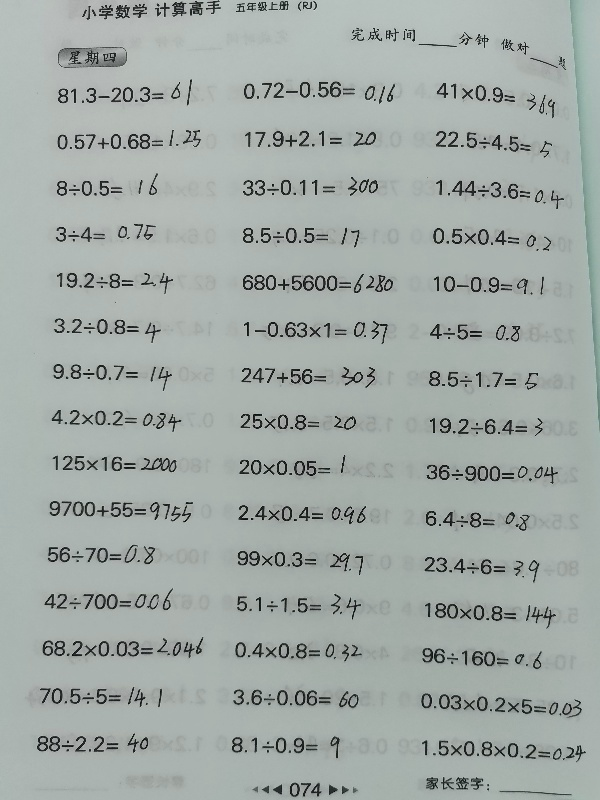equation: (415, 733, 590, 765), (433, 81, 562, 123), (38, 634, 207, 663), (432, 178, 569, 213), (54, 76, 196, 109), (416, 692, 585, 719), (239, 313, 391, 343), (239, 77, 398, 105), (45, 497, 196, 526), (233, 586, 364, 619), (239, 270, 397, 297), (421, 597, 559, 627), (53, 126, 204, 153), (41, 585, 177, 614), (49, 361, 175, 392), (428, 225, 557, 255), (237, 364, 385, 390), (240, 173, 382, 199), (36, 681, 165, 709), (54, 268, 178, 297), (48, 405, 184, 431), (234, 501, 369, 527), (421, 554, 542, 583), (422, 460, 561, 485), (52, 173, 173, 201), (230, 638, 365, 663), (228, 733, 344, 762), (229, 685, 362, 710), (242, 127, 380, 151), (418, 645, 545, 671), (33, 730, 153, 757), (432, 130, 555, 156), (50, 314, 164, 342), (238, 223, 363, 248), (235, 453, 350, 480), (49, 452, 180, 475), (426, 414, 546, 439), (43, 540, 158, 566), (237, 410, 361, 434), (430, 272, 547, 297), (421, 506, 533, 532), (424, 367, 540, 392), (52, 220, 159, 245), (425, 319, 523, 344), (233, 547, 319, 570)
